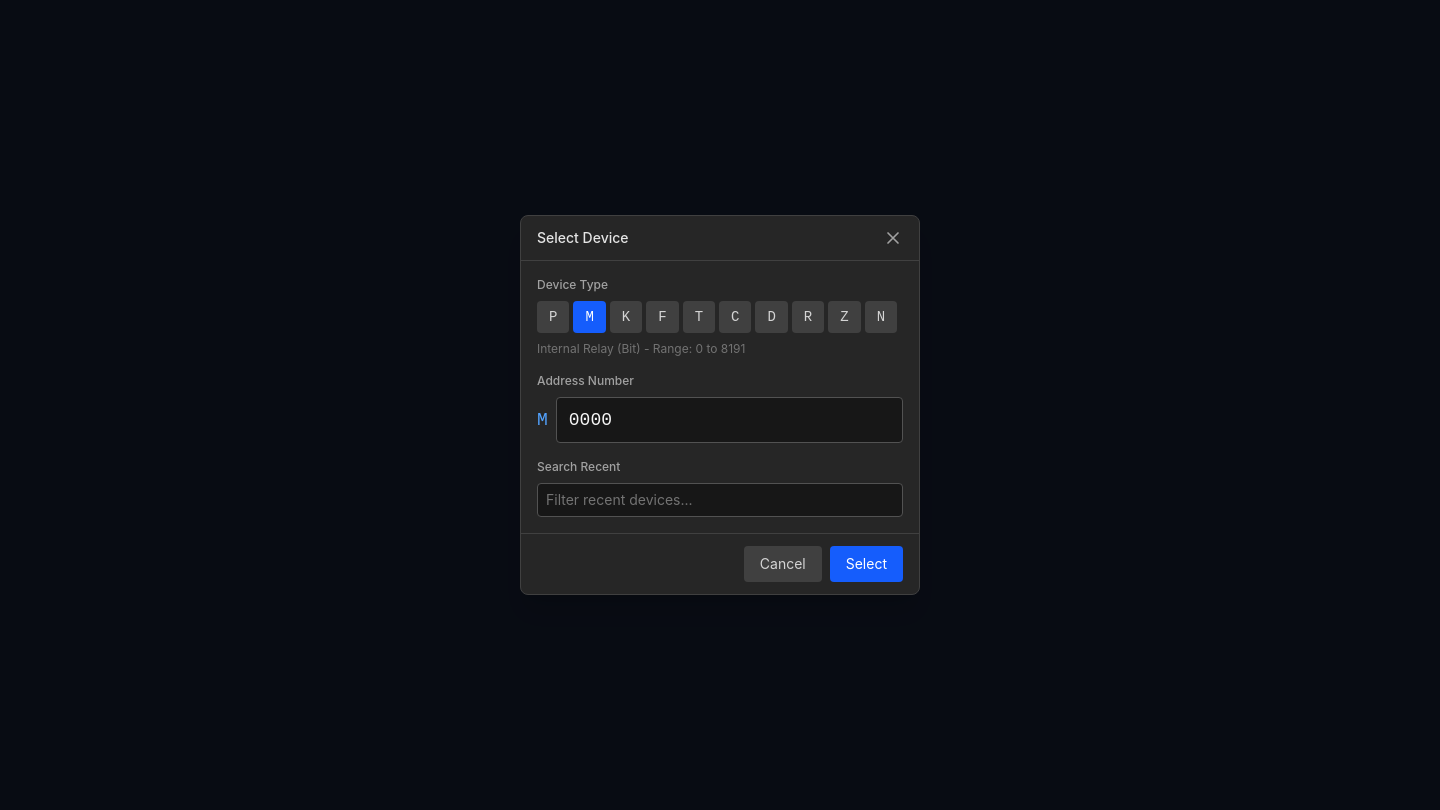
Test: DeviceSelectDialog › Validation › should show error for address out of range
This screenshot has width=1440, height=810.
M device range is 0-8191
Type "9999" into the field labelled "Address Number". click: coordinates (729, 420)
box: [556,397,903,443]
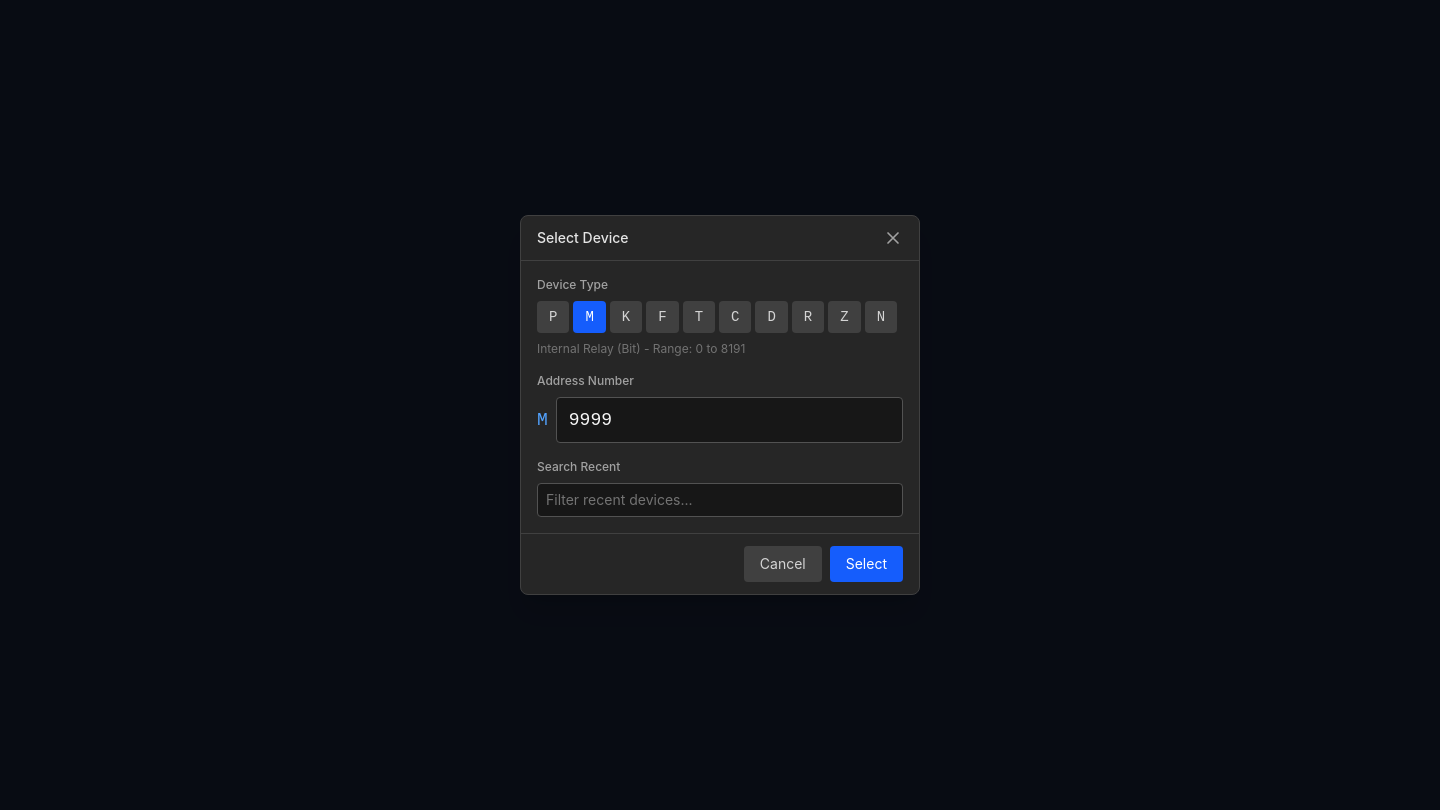
Click Select to trigger validation
Click the button "Select". click: coordinates (866, 564)
box: [830,546,903,582]
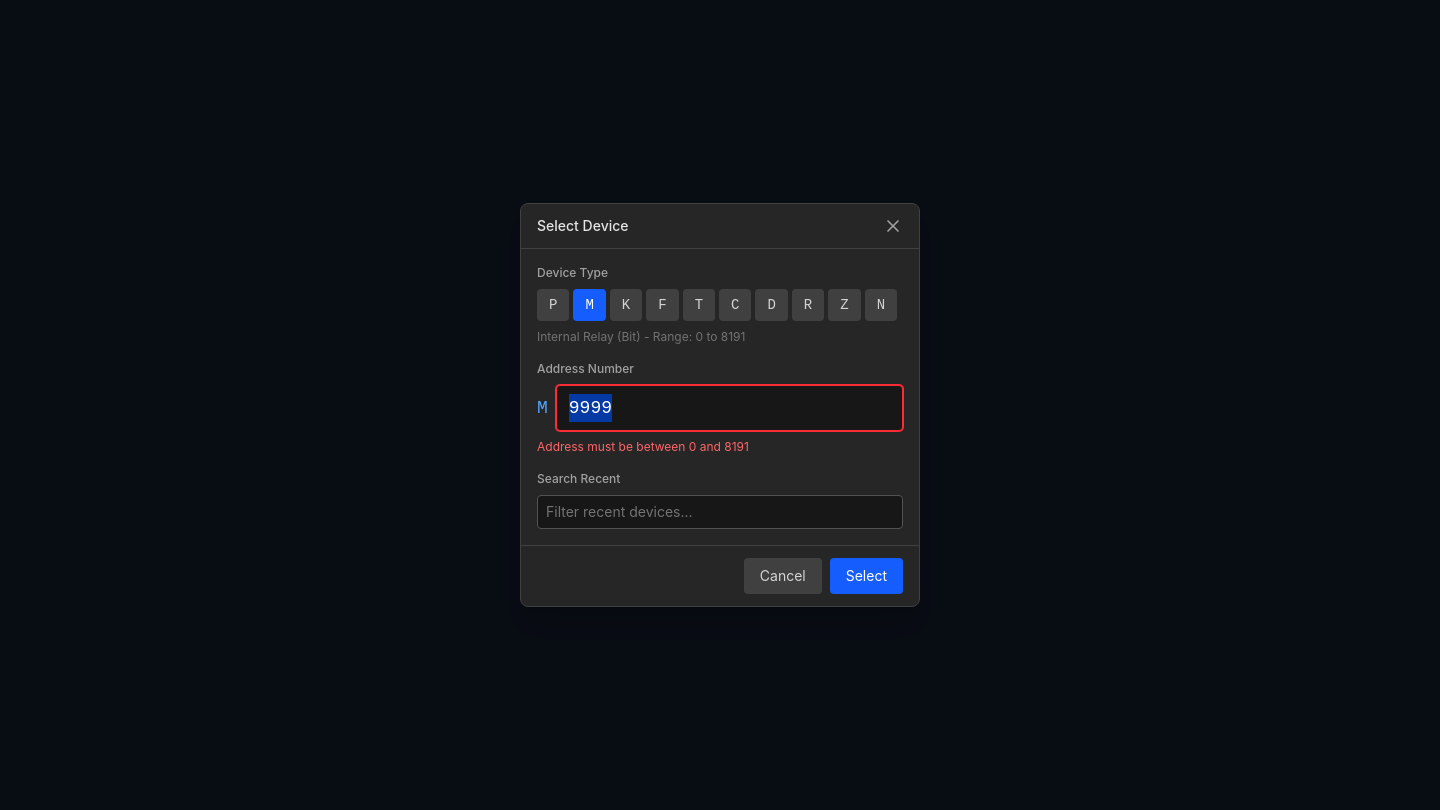
Result: the text "Address must be between 0 and 8191" is shown at [537,439,749,454]
